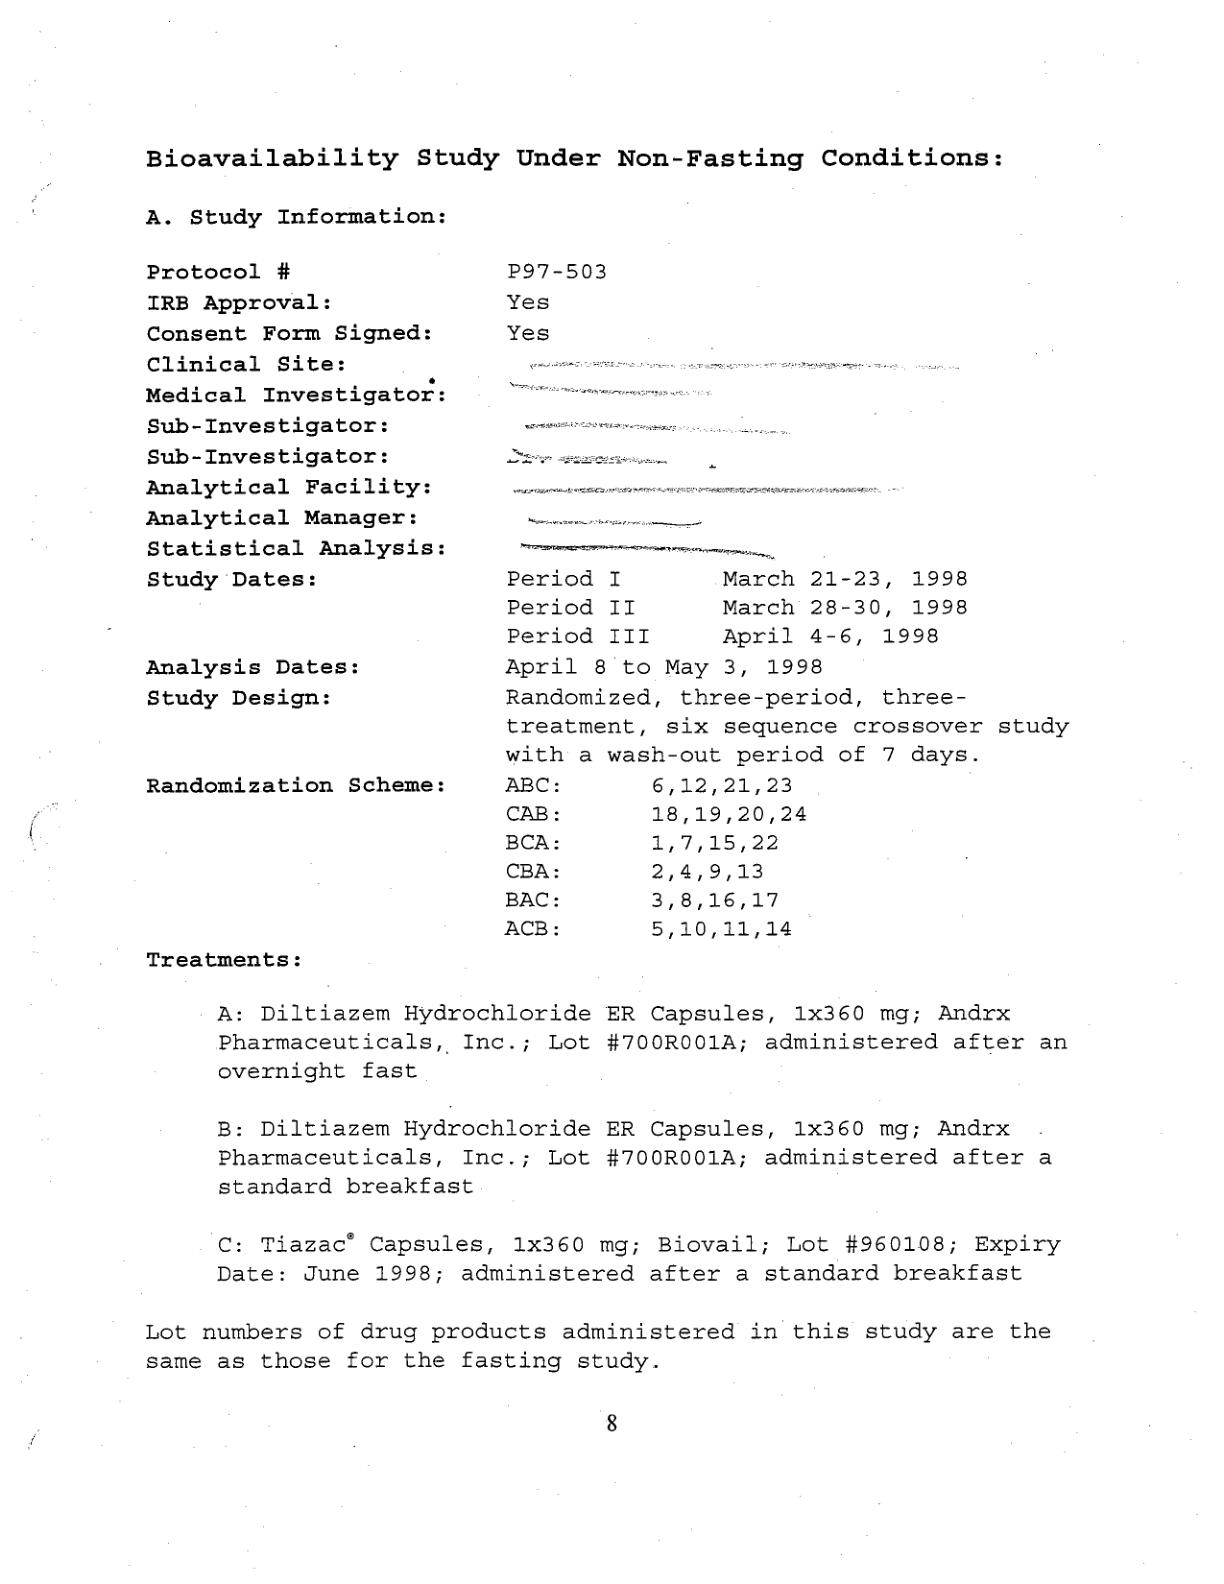nolines: (144, 260, 1070, 969)
